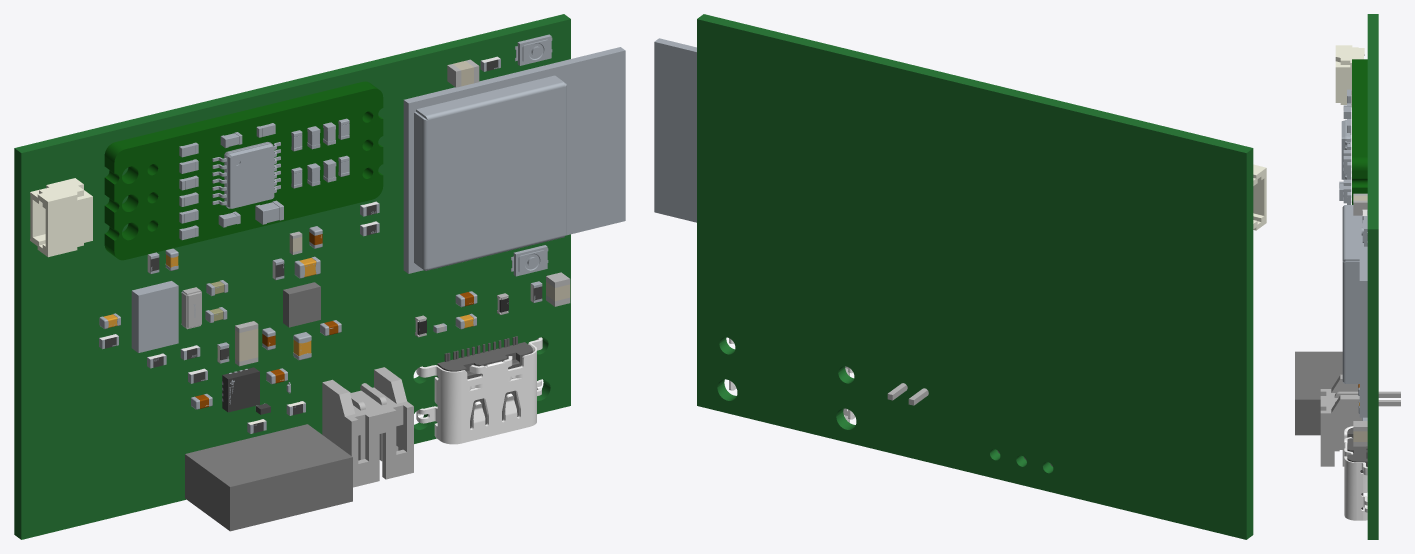
The model's file is imu_system.glb.
3 views of the same model, side by side, from view 1: azimuth 30°, elevation 25°; view 2: azimuth 150°, elevation 25°; view 3: azimuth 270°, elevation 25° (orthographic). The views are drawn at different scales.
Visible parts, largest first — view 1: Open CASCADE STEP translator 7.5 2.1.1, COMPOUND, object 74, Extruded (×2), object 73, shell with spring, S2B-PH-K-S, SM03B-SRSS, SOLID, object 216, object 75, housing mid 0.80 (+3 smaller); view 2: Open CASCADE STEP translator 7.5 2.1.1, object 73, object 161, SM03B-SRSS; view 3: Open CASCADE STEP translator 7.5 2.1.1, Extruded (×4), object 74, S2B-PH-K-S, COMPOUND, object 73, shell with spring, SM03B-SRSS, housing mid 0.80, SOLID, object 28.
Part boxes in pixels (x1=…): Open CASCADE STEP translator 7.5 2.1.1: x1=14, y1=14, x2=570, y2=539; COMPOUND: x1=104, y1=81, x2=383, y2=260; object 74: x1=414, y1=75, x2=566, y2=270; Extruded (×2): x1=185, y1=282, x2=352, y2=531; object 73: x1=403, y1=47, x2=625, y2=273; shell with spring: x1=416, y1=337, x2=542, y2=444; S2B-PH-K-S: x1=322, y1=367, x2=413, y2=487; SM03B-SRSS: x1=30, y1=178, x2=92, y2=257; SOLID: x1=212, y1=142, x2=280, y2=208; object 216: x1=132, y1=281, x2=178, y2=352; object 75: x1=572, y1=56, x2=622, y2=226; housing mid 0.80: x1=437, y1=336, x2=532, y2=428; Open CASCADE STEP translator 7.5 2.1.1: x1=697, y1=14, x2=1253, y2=539; object 73: x1=654, y1=38, x2=696, y2=222; object 161: x1=657, y1=47, x2=696, y2=216; SM03B-SRSS: x1=1253, y1=164, x2=1266, y2=230; Open CASCADE STEP translator 7.5 2.1.1: x1=1367, y1=14, x2=1378, y2=539; Extruded (×4): x1=1295, y1=200, x2=1367, y2=441; object 74: x1=1342, y1=205, x2=1359, y2=383; S2B-PH-K-S: x1=1320, y1=374, x2=1400, y2=466; COMPOUND: x1=1352, y1=59, x2=1367, y2=204; object 73: x1=1359, y1=215, x2=1367, y2=417; shell with spring: x1=1344, y1=426, x2=1367, y2=520; SM03B-SRSS: x1=1335, y1=45, x2=1364, y2=107; housing mid 0.80: x1=1347, y1=427, x2=1367, y2=509; SOLID: x1=1341, y1=119, x2=1351, y2=179; object 28: x1=1361, y1=216, x2=1367, y2=246.
Bounding box in the file's own units: 0.0566 × 0.0349 × 0.0108.
